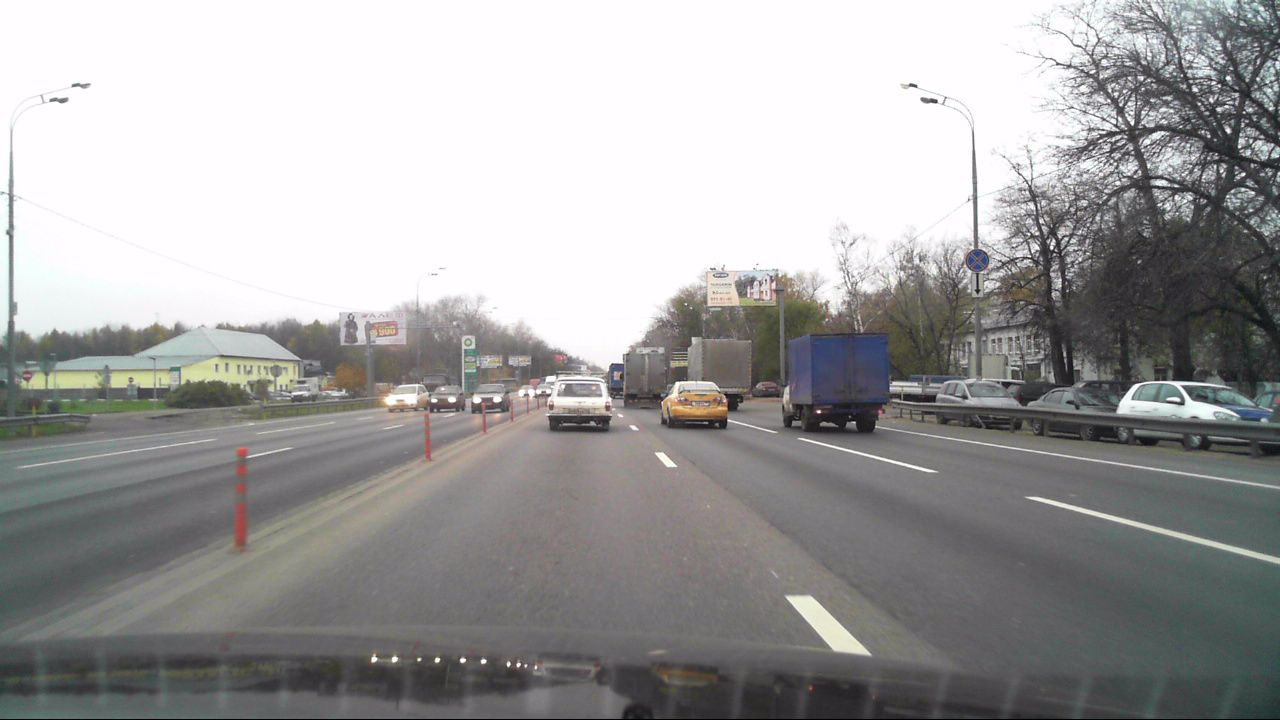No Parking: (966, 249, 989, 272)
